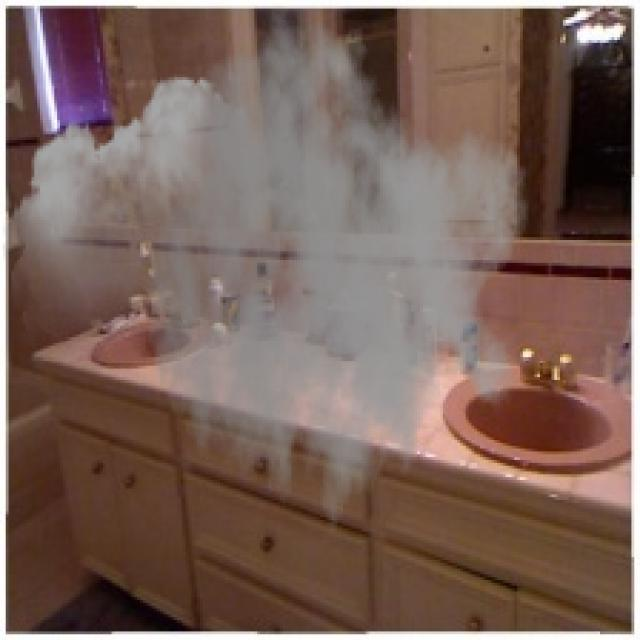smoke: (3, 6, 531, 557)
